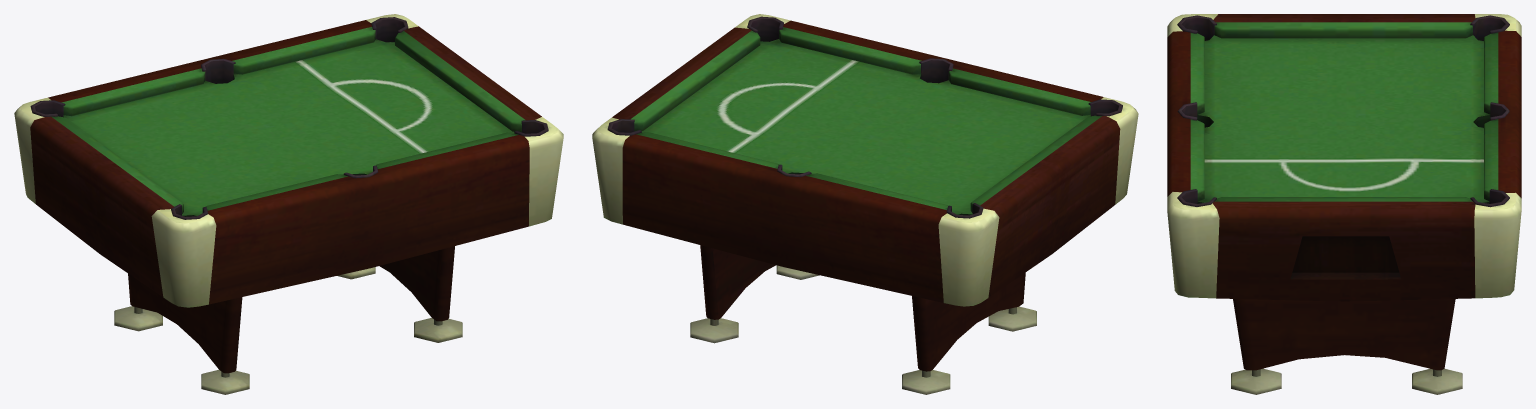
File: furni_0200400.FBX
3 views of the same model, side by side, from view 1: azimuth 30°, elevation 25°; view 2: azimuth 150°, elevation 25°; view 3: azimuth 270°, elevation 25° (orthographic). The views are drawn at different scales.
Parts seen in each view (by area): view 1: furni_0200400; view 2: furni_0200400; view 3: furni_0200400.
Part boxes in pixels (bbox=[...]): furni_0200400: bbox=[14, 14, 563, 394]; furni_0200400: bbox=[592, 14, 1138, 394]; furni_0200400: bbox=[1167, 14, 1521, 394].
Size of the model in its own units: 159 by 80.53 by 119.
